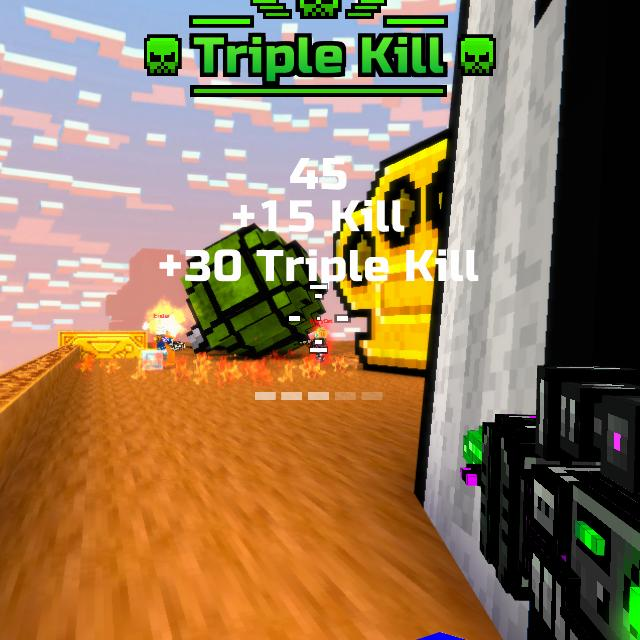Enemy: (309, 327, 328, 362)
